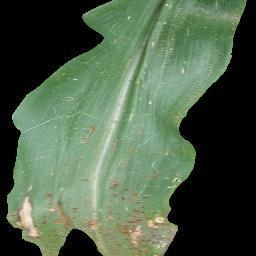Corn_Common_Rust: (8, 171, 181, 256), (221, 11, 242, 39), (79, 123, 98, 150), (167, 108, 186, 131), (108, 132, 122, 159), (127, 138, 140, 161), (162, 150, 173, 160)
